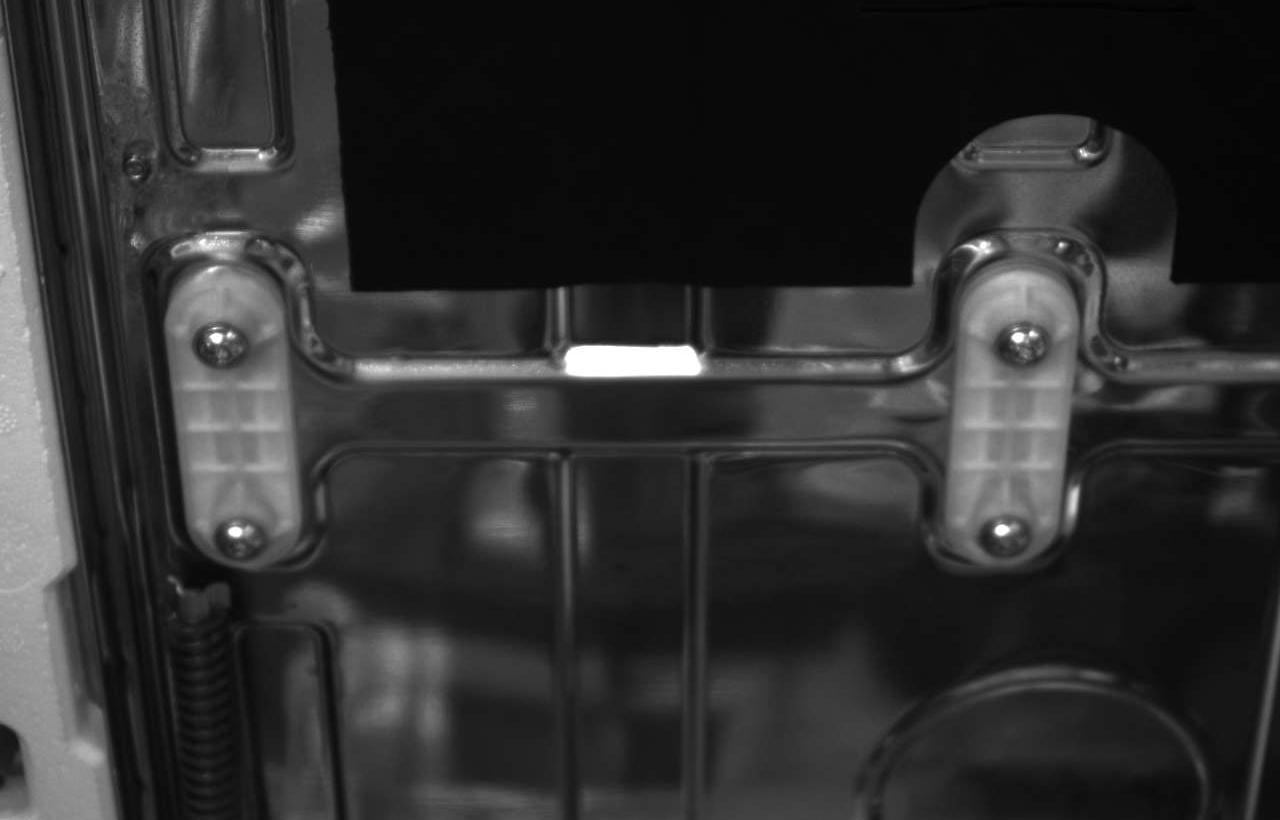vida-ok: (169, 309, 256, 387), (984, 311, 1072, 383), (195, 506, 276, 570), (975, 506, 1050, 565)
